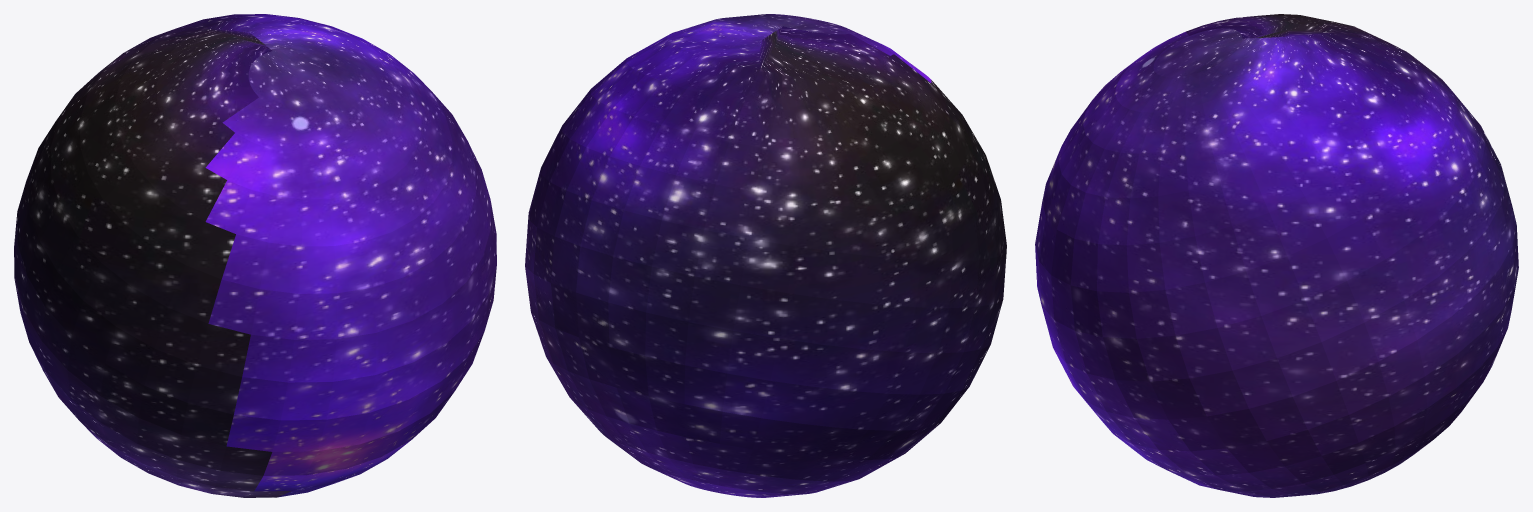
Rendered from untitledv2.fbx.
3 views of the same model, side by side, from view 1: azimuth 30°, elevation 25°; view 2: azimuth 150°, elevation 25°; view 3: azimuth 270°, elevation 25° (orthographic).
Parts seen in each view (by area): view 1: Sphere; view 2: Sphere; view 3: Sphere.
Boxes of the visible parts, x1,y1,x2,y2 form: Sphere: [14, 14, 496, 497]; Sphere: [525, 14, 1006, 497]; Sphere: [1035, 14, 1518, 497].
Bounding box in the file's own units: 50 × 49.93 × 49.93.
